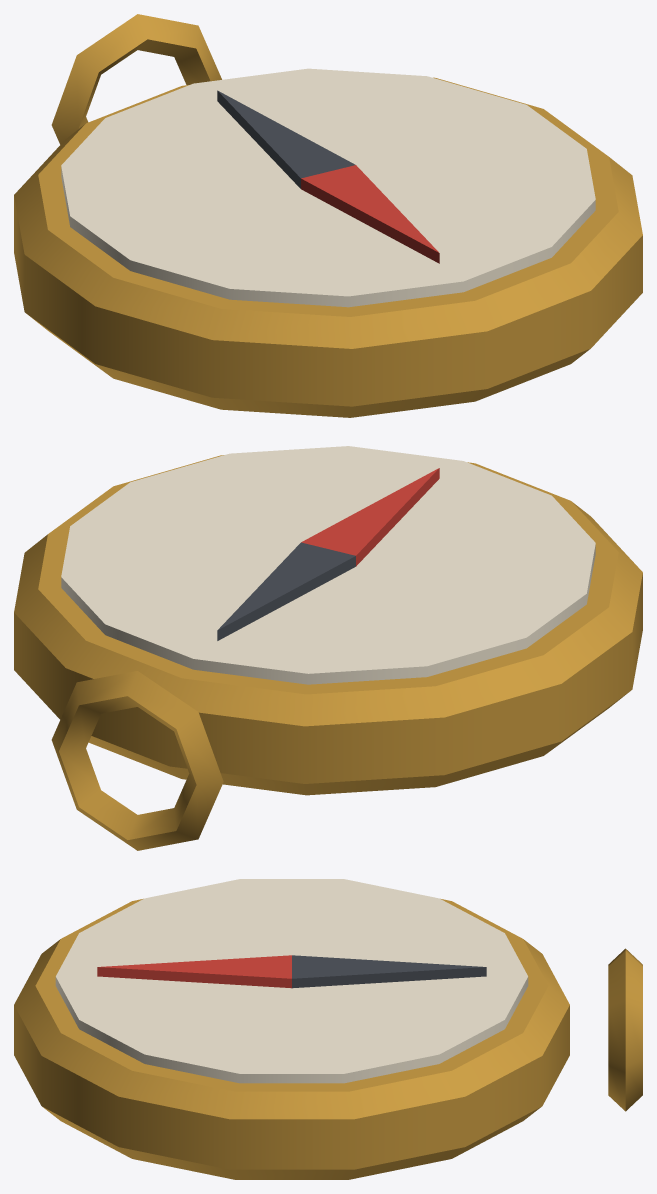
Rendered from SM_Compass.glb.
The picture shows the model from 3 angles, top to bottom: view 1: azimuth 30°, elevation 25°; view 2: azimuth 150°, elevation 25°; view 3: azimuth 270°, elevation 25°; orthographic projection. The views are drawn at different scales.
Parts seen in each view (by area): view 1: SM_Compass; view 2: SM_Compass; view 3: SM_Compass.
Boxes of the visible parts, bbox=[...] form: SM_Compass: bbox=[14, 14, 642, 417]; SM_Compass: bbox=[14, 446, 642, 850]; SM_Compass: bbox=[14, 879, 642, 1179].
Size of the model in its own units: 0.078 by 0.025 by 0.0905.
1 material, 1 textured.
